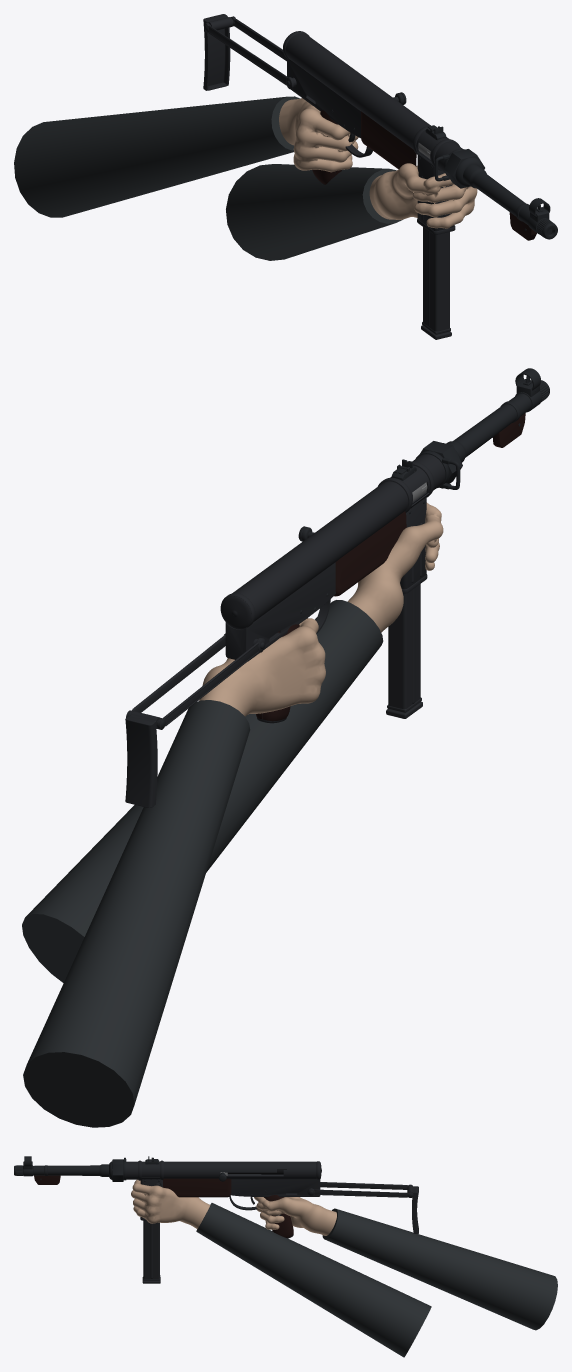
3 views of the same model, one above another, from view 1: azimuth 30°, elevation 25°; view 2: azimuth 150°, elevation 25°; view 3: azimuth 270°, elevation 25° (orthographic). The views are drawn at different scales.
Visible parts, largest first — view 1: view-sleeve-r, mp40, view-sleeve-l, hand-l, hand-r, object 3; view 2: view-sleeve-r, mp40, view-sleeve-l, hand-r, hand-l, object 3; view 3: view-sleeve-l, mp40, view-sleeve-r, hand-l, hand-r.
Boxes of the visible parts, x1,y1,x2,y2 form: view-sleeve-r: (14,96,299,217); mp40: (204,16,557,339); view-sleeve-l: (226,164,403,260); hand-l: (369,163,477,228); hand-r: (279,98,358,172); object 3: (203,20,230,90); view-sleeve-r: (23,700,250,1127); mp40: (126,368,549,729); view-sleeve-l: (22,600,383,982); hand-r: (199,618,325,716); hand-l: (347,502,443,632); object 3: (125,719,157,807); view-sleeve-l: (196,1203,431,1357); mp40: (14,1156,413,1283); view-sleeve-r: (322,1208,557,1330); hand-l: (131,1179,210,1229); hand-r: (254,1197,336,1235).
Size of the model in its own units: 0.28 by 0.4222 by 1.12.
